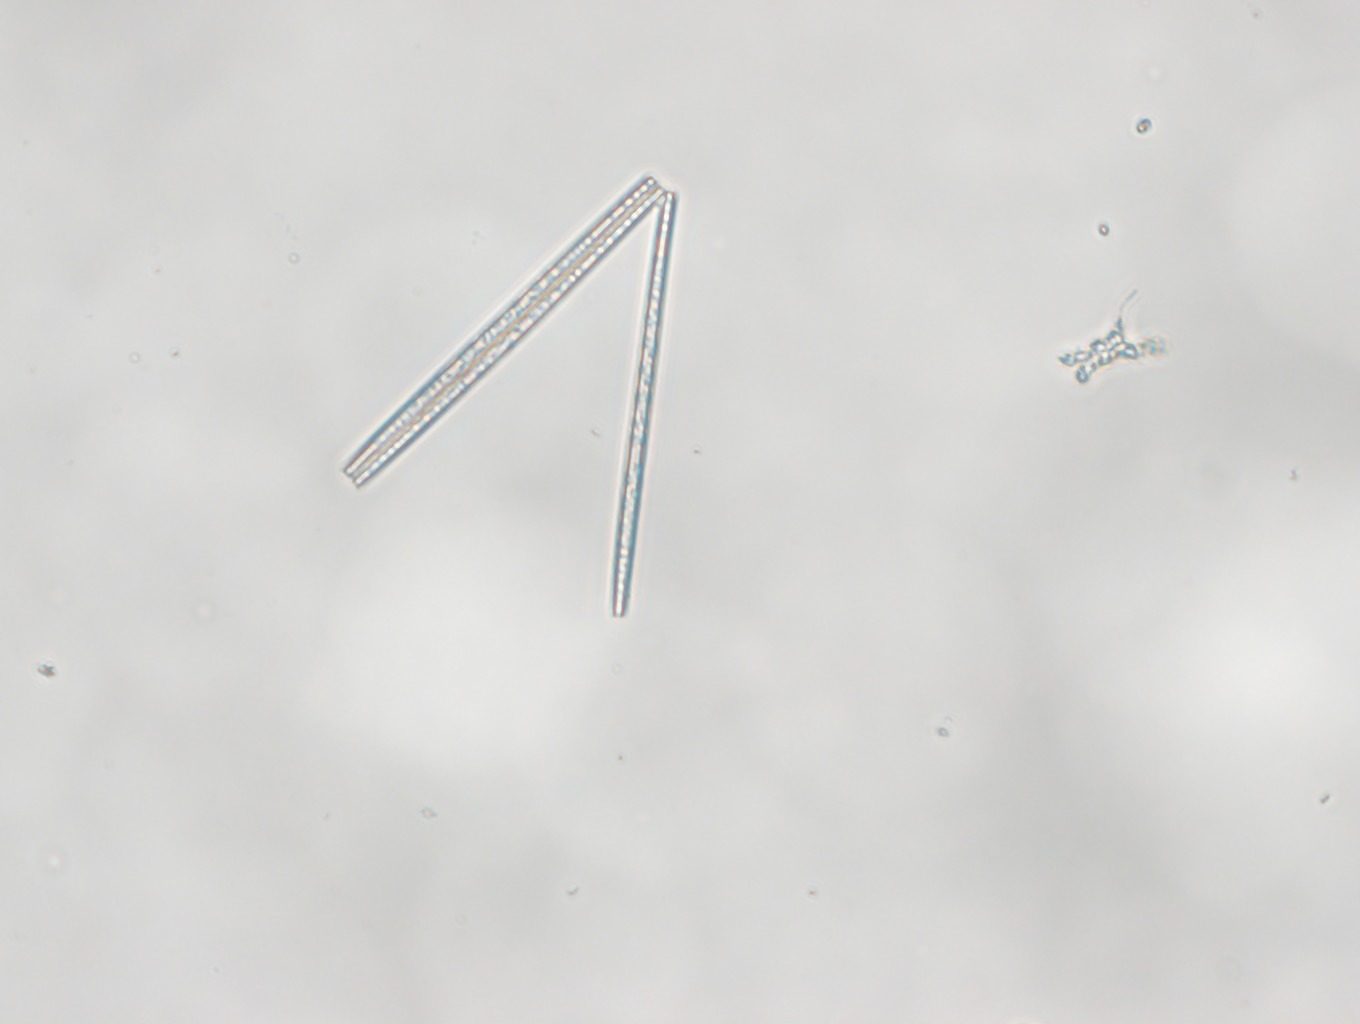thalassionema frauenfeldii: (314, 165, 686, 623)
